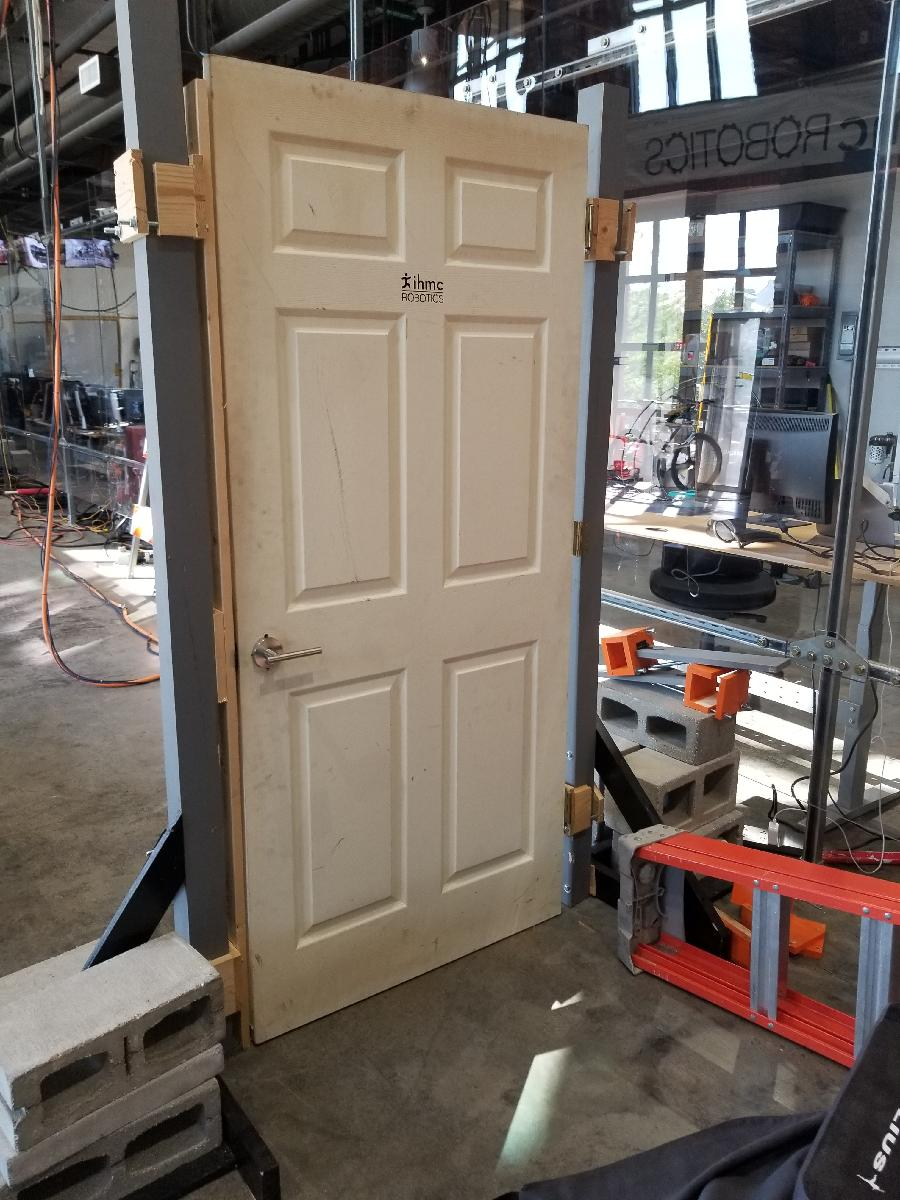door: (192, 50, 598, 1068)
doorHandle: (247, 620, 330, 677)
